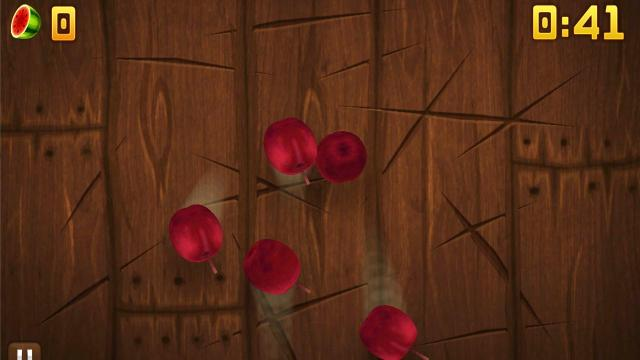fruit: (242, 237, 306, 297), (167, 201, 225, 265), (355, 304, 419, 360), (314, 130, 376, 184), (259, 116, 315, 174)
